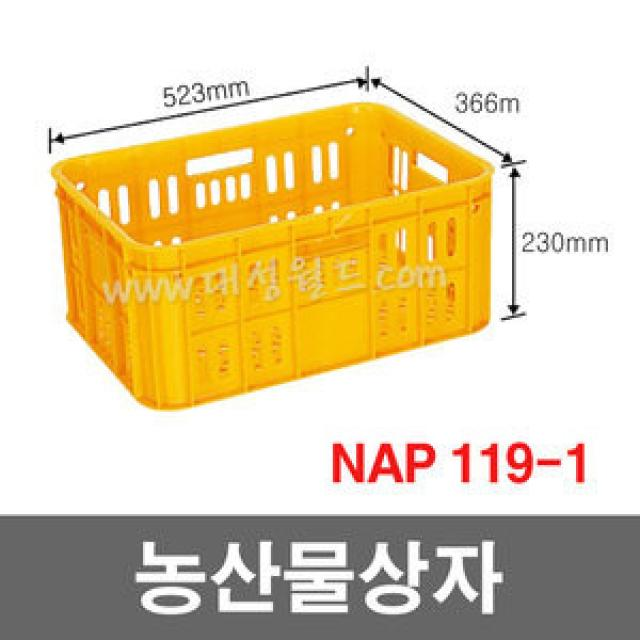basket: (29, 56, 534, 431)
